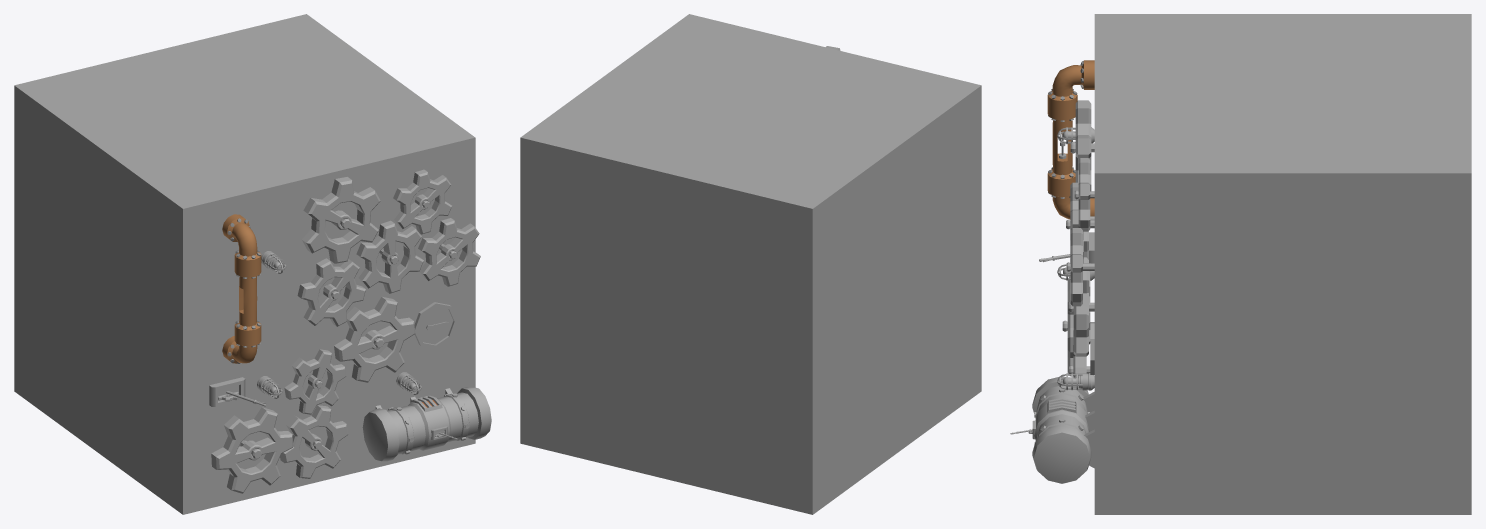
The model's file is GJ_Wall_004.fbx.
The picture shows the model from 3 angles, left to right: view 1: azimuth 30°, elevation 25°; view 2: azimuth 150°, elevation 25°; view 3: azimuth 270°, elevation 25°; orthographic projection. The views are drawn at different scales.
Parts seen in each view (by area): view 1: GJ_Wall_004; view 2: GJ_Wall_004; view 3: GJ_Wall_004.
Part boxes in pixels (left/top/right/bottom): GJ_Wall_004: left=14, top=14, right=491, bottom=514; GJ_Wall_004: left=520, top=14, right=981, bottom=514; GJ_Wall_004: left=1010, top=14, right=1471, bottom=514.
Bounding box in the file's own units: 0.7 × 0.7 × 0.8561.
